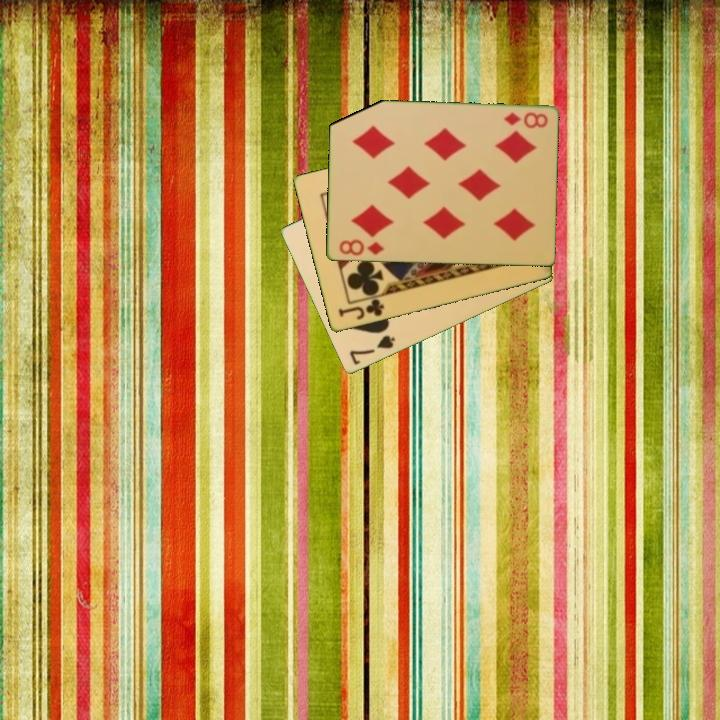7s: (346, 332, 398, 368)
8d: (335, 236, 386, 258), (500, 109, 550, 131)
Jc: (334, 296, 387, 323)
